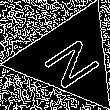N_NE: (34, 27, 104, 90)
